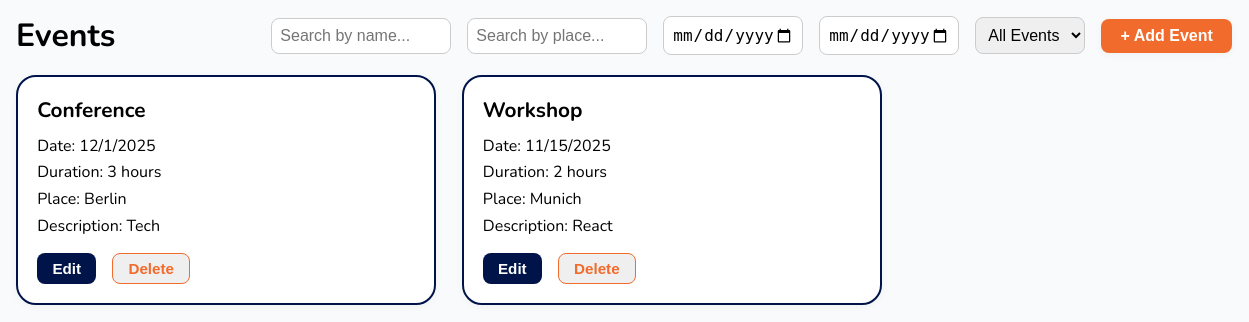
EventsHome Component - Unit Tests › Search and Filter Functionality › should filter events by place
This screenshot has width=1249, height=322.
Expected: the heading "Conference" is shown, left=37, top=96, right=146, bottom=124
Expected: the heading "Workshop" is shown, left=483, top=96, right=582, bottom=124
// Search for "Berlin"
Type "Berlin" into the field with placeholder "Search by place..." at (557, 36), box left=467, top=18, right=647, bottom=54
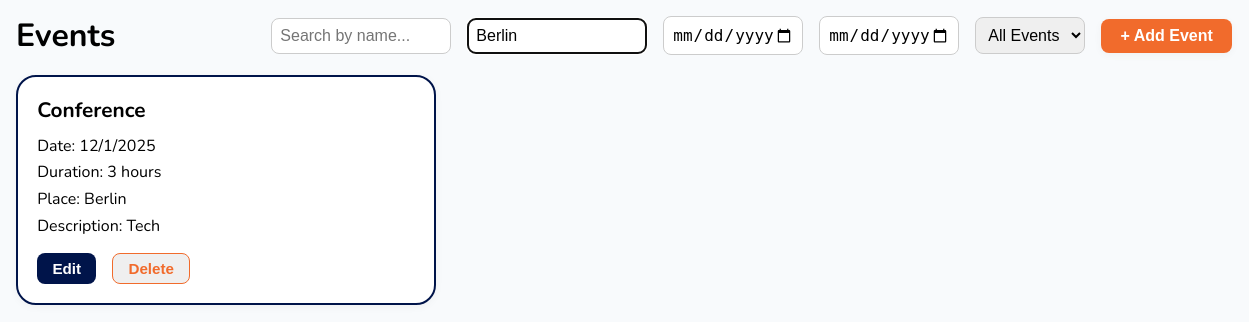
Expected: the heading "Conference" is shown, left=37, top=96, right=146, bottom=124
Now the heading "Workshop" is gone
